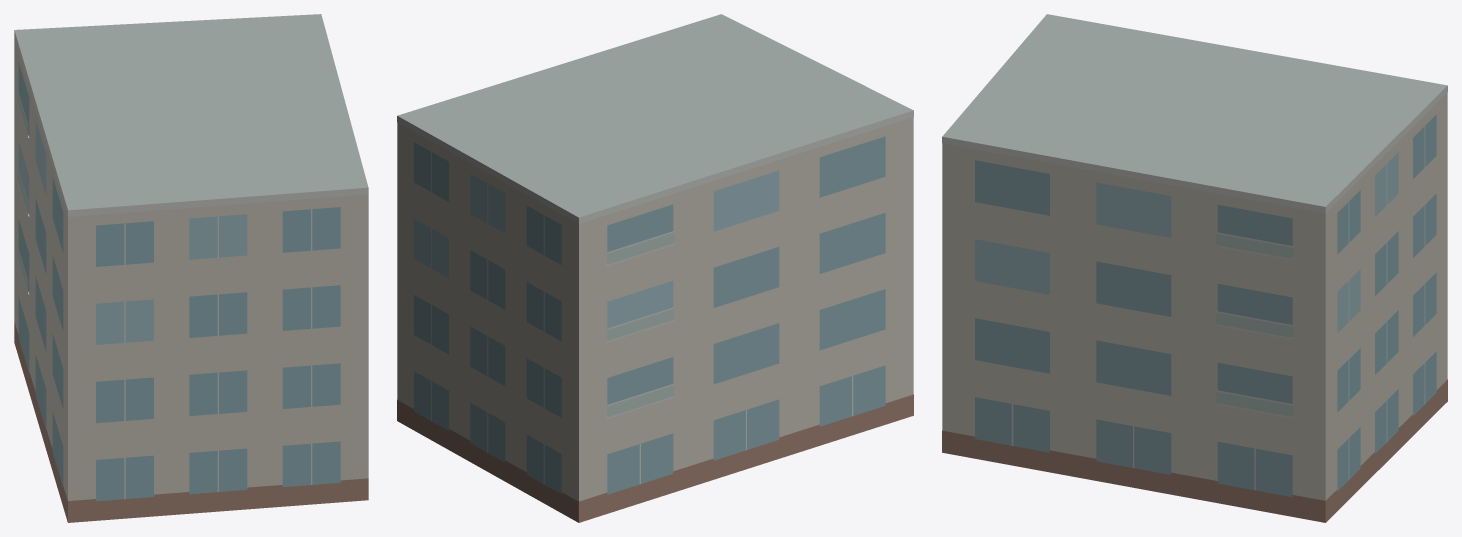
The model's file is survey-upis-32921433.glb.
3 views of the same model, side by side, from view 1: azimuth 30°, elevation 25°; view 2: azimuth 150°, elevation 25°; view 3: azimuth 270°, elevation 25° (orthographic). The views are drawn at different scales.
Parts seen in each view (by area): view 1: survey-upis-32921433.tmp; view 2: survey-upis-32921433.tmp; view 3: survey-upis-32921433.tmp.
Part boxes in pixels (bbox=[...]): survey-upis-32921433.tmp: bbox=[14, 14, 368, 522]; survey-upis-32921433.tmp: bbox=[397, 14, 913, 522]; survey-upis-32921433.tmp: bbox=[942, 14, 1447, 522].
Bounding box in the file's own units: 15.07 × 11.5 × 16.69.
